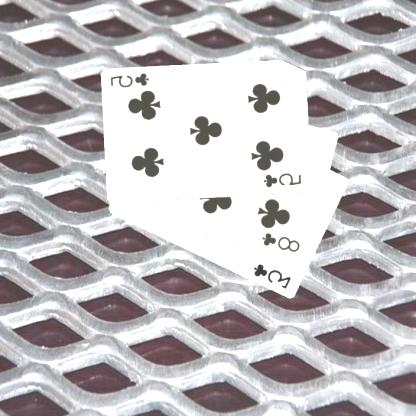3C: (252, 261, 295, 291)
5C: (110, 70, 152, 90), (263, 171, 305, 189)
8C: (261, 230, 303, 254)
